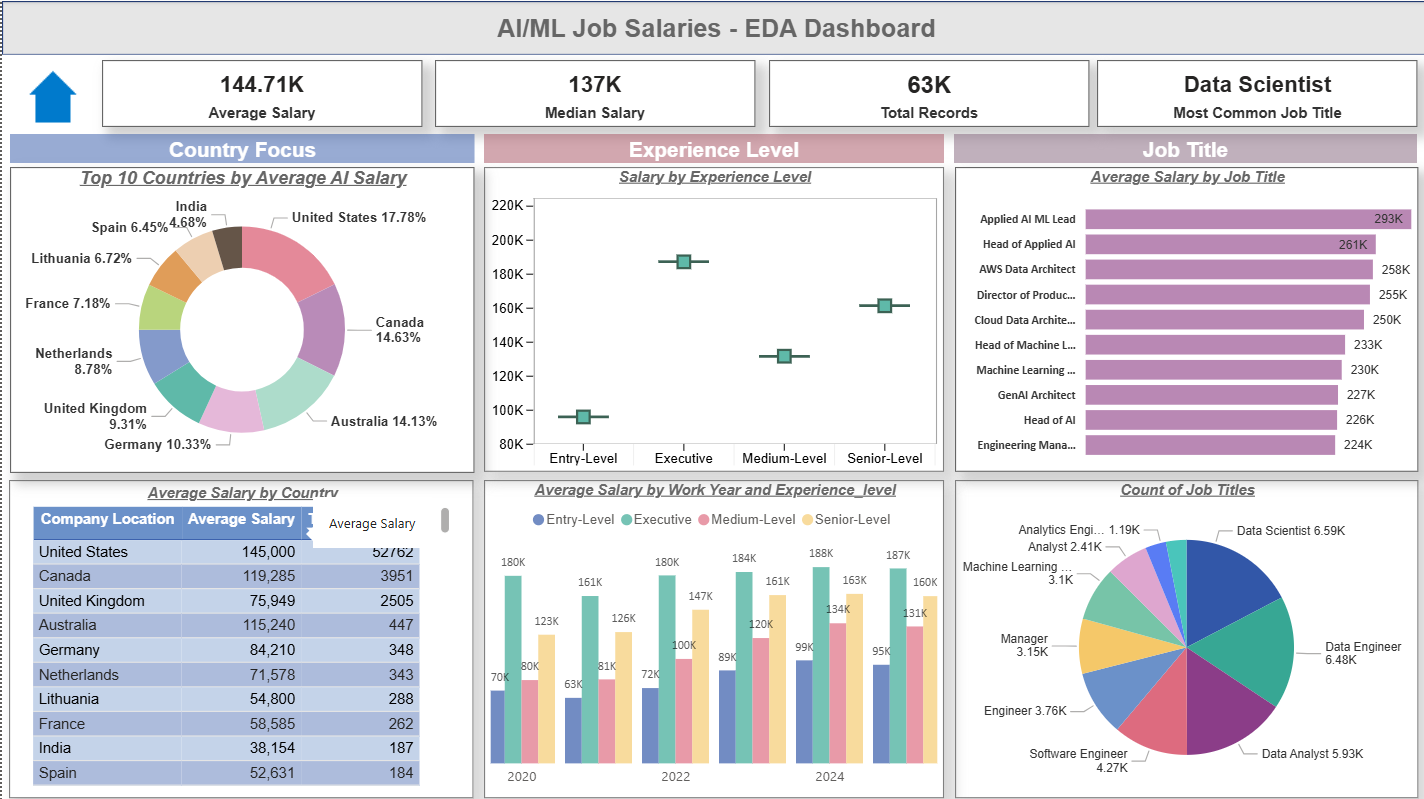

This screenshot's page, from the dashboard's own definition file:
{"tool":"powerbi","page":{"name":"Dashboard","canvas":[1280,720],"ordinal":8},"visuals":[{"type":"pieChart","title":"Count of Job Titles","fields":{"Y":["CountNonNull(cleaned_job_salaries.job_title)"],"Category":["cleaned_job_salaries.job_title"]},"box":[853.4,429,414.6,284.8],"z":0},{"type":"tableEx","title":"Average Salary by Country","fields":{"Values":["cleaned_job_salaries.company_location","Median(cleaned_job_salaries.salary_in_usd)","cleaned_job_salaries.job_title"]},"box":[6.3,429,416.4,284.8],"z":1000},{"type":"clusteredColumnChart","title":"Average Salary by Work Year and Experience_level","fields":{"Category":["cleaned_job_salaries.work_year"],"Y":["Avg(cleaned_job_salaries.salary_in_usd)"],"Series":["cleaned_job_salaries.experience_level"]},"box":[431.6,429,411.9,284.8],"z":2000},{"type":"BoxandWhiskerByMAQ1823AD39DT234AB532063E128AX","title":"Salary by Experience Level","fields":{"category":["cleaned_job_salaries.experience_level"],"measure":["Avg(cleaned_job_salaries.salary_in_usd)"],"categoryGroup":["cleaned_job_salaries.experience_level"],"tooltipData":["CountNonNull(cleaned_job_salaries.Tooltip_Experience)"]},"box":[431.6,148.7,411.9,273.1],"z":3000},{"type":"barChart","title":"Average Salary by Job Title","fields":{"Category":["cleaned_job_salaries.job_title"],"Y":["Avg(cleaned_job_salaries.salary_in_usd)"]},"box":[853.4,148.7,414.6,273.1],"z":4000},{"type":"card","fields":{"Values":["Avg(cleaned_job_salaries.salary_in_usd)"]},"box":[89.6,52.8,286.6,60],"z":5000},{"type":"card","fields":{"Values":["Median(cleaned_job_salaries.salary_in_usd)"]},"box":[387.8,52.8,286.6,60],"z":6000},{"type":"card","fields":{"Values":["cleaned_job_salaries.Total Records"]},"box":[686.9,52.8,286.6,60],"z":7000},{"type":"card","fields":{"Values":["cleaned_job_salaries.Most Common Job Title"]},"box":[980.6,52.8,287.5,60],"z":8000},{"type":"actionButton","box":[7.2,119.1,416.4,26],"z":9000},{"type":"actionButton","box":[431.6,119.1,411.9,26],"z":10000},{"type":"actionButton","box":[852.5,119.1,414.6,26],"z":11000},{"type":"actionButton","box":[7,14,71,69],"z":12000},{"type":"image","box":[0,41.2,89.6,83.3],"z":13000},{"type":"donutChart","title":"Top 10 Countries by Average AI Salary","fields":{"Category":["cleaned_job_salaries.company_location"],"Y":["Median(cleaned_job_salaries.salary_in_usd)"]},"box":[7.2,148.7,415.5,274],"z":14000},{"type":"shape","box":[0,0,1279.7,48.4],"z":14001}]}

Visuals, with their boxes in screenshot pixels (x1, y1, x2, y2), scaled from the page's 1280x720 canvas onto the 1424x799 screenshot:
"Count of Job Titles" pieChart: [left=949, top=476, right=1411, bottom=792]
"Average Salary by Country" tableEx: [left=7, top=476, right=470, bottom=792]
"Average Salary by Work Year and Experience_level" clusteredColumnChart: [left=480, top=476, right=938, bottom=792]
"Salary by Experience Level" BoxandWhiskerByMAQ1823AD39DT234AB532063E128AX: [left=480, top=165, right=938, bottom=468]
"Average Salary by Job Title" barChart: [left=949, top=165, right=1411, bottom=468]
card - Avg(cleaned_job_salaries.salary_in_usd): [left=100, top=59, right=419, bottom=125]
card - Median(cleaned_job_salaries.salary_in_usd): [left=431, top=59, right=750, bottom=125]
card - cleaned_job_salaries.Total Records: [left=764, top=59, right=1083, bottom=125]
card - cleaned_job_salaries.Most Common Job Title: [left=1091, top=59, right=1411, bottom=125]
actionButton: [left=8, top=132, right=471, bottom=161]
actionButton: [left=480, top=132, right=938, bottom=161]
actionButton: [left=948, top=132, right=1410, bottom=161]
actionButton: [left=8, top=16, right=87, bottom=92]
image: [left=0, top=46, right=100, bottom=138]
"Top 10 Countries by Average AI Salary" donutChart: [left=8, top=165, right=470, bottom=469]
shape: [left=0, top=0, right=1423, bottom=54]
